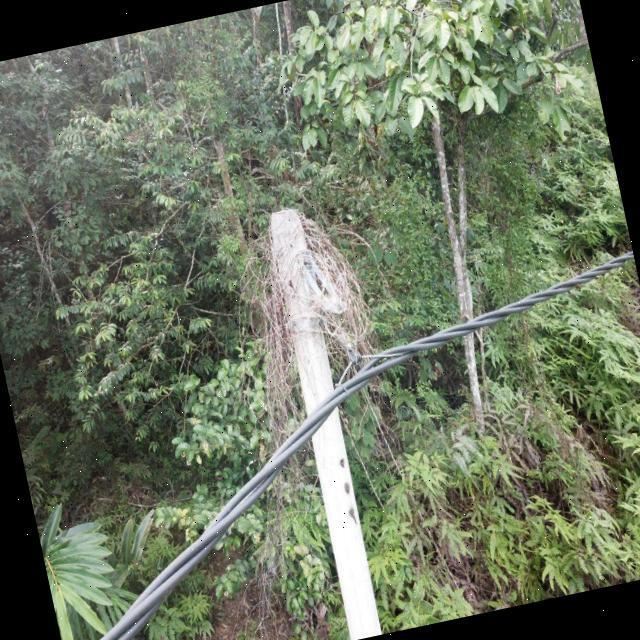critical vegetation: (174, 184, 432, 609)
